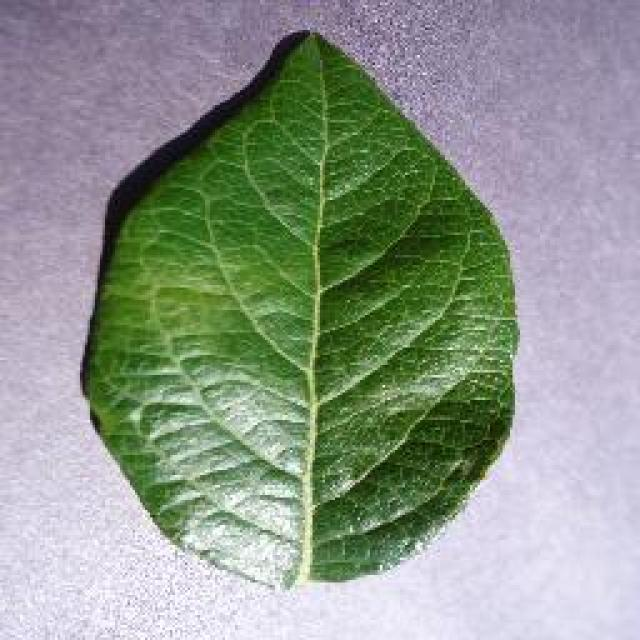Blu_healthy: (125, 140, 504, 482)
